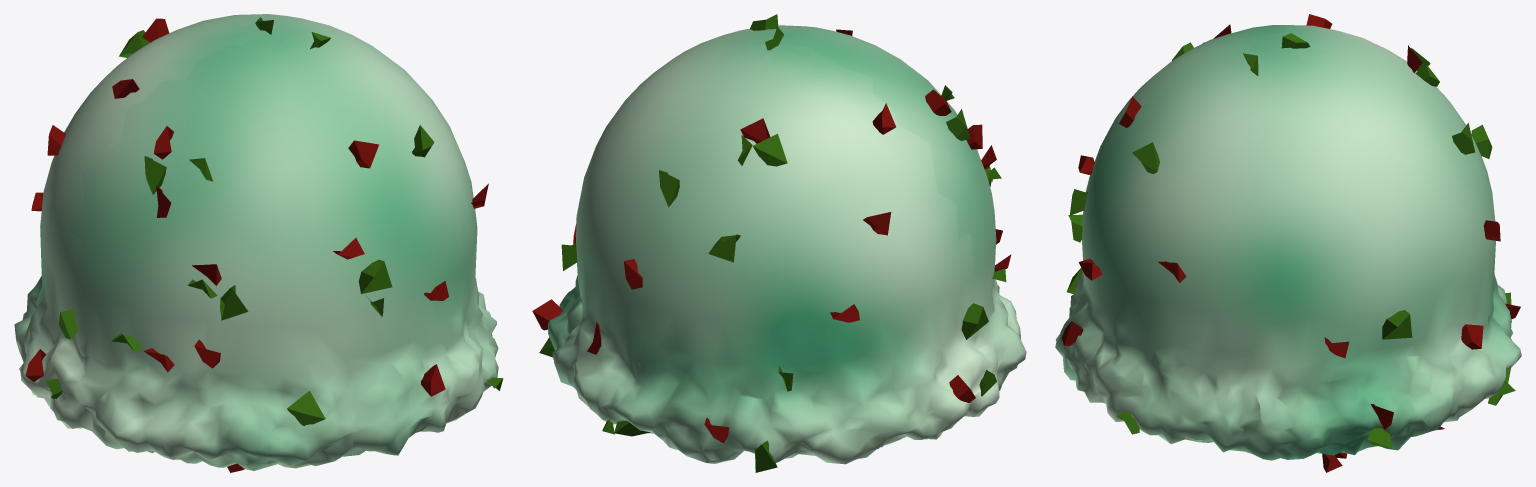
File: IceCream_Mint.fbx
The picture shows the model from 3 angles, left to right: view 1: azimuth 30°, elevation 25°; view 2: azimuth 150°, elevation 25°; view 3: azimuth 270°, elevation 25°; orthographic projection. The views are drawn at different scales.
Visible parts, largest first — view 1: IceCream_Mint; view 2: IceCream_Mint; view 3: IceCream_Mint.
Boxes of the visible parts, x1=… form: IceCream_Mint: x1=14, y1=14, x2=503, y2=472; IceCream_Mint: x1=532, y1=14, x2=1026, y2=472; IceCream_Mint: x1=1055, y1=14, x2=1521, y2=472.
Bounding box in the file's own units: 222 × 193 × 222.
